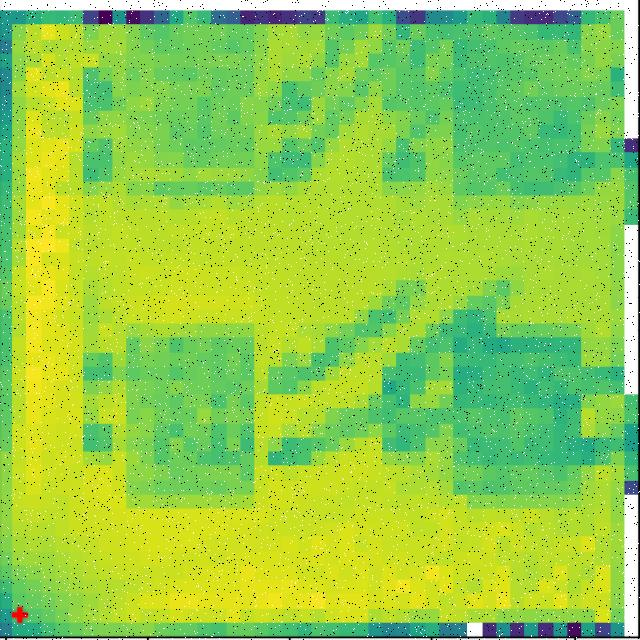Concrete: (127, 324, 254, 508)
Glass: (459, 323, 583, 508)
Metal: (125, 34, 252, 209)
Wood: (449, 39, 594, 206)
